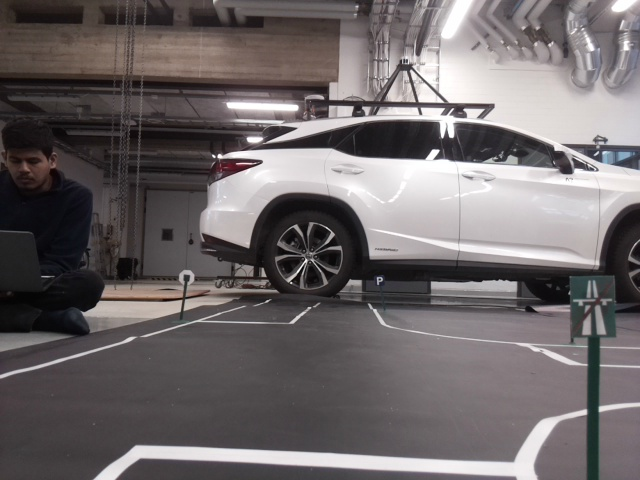HighwayExit: (572, 278, 614, 334)
